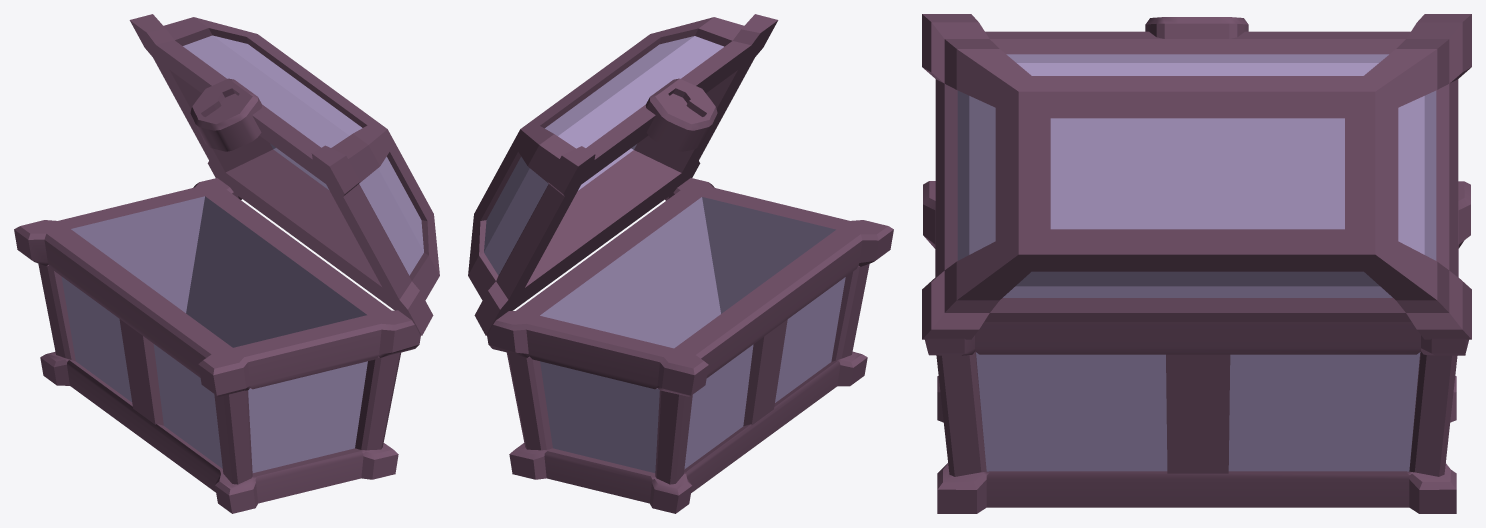
The model's file is openPurpleChest.fbx.
3 views of the same model, side by side, from view 1: azimuth 30°, elevation 25°; view 2: azimuth 150°, elevation 25°; view 3: azimuth 270°, elevation 25° (orthographic). The views are drawn at different scales.
Visible parts, largest first — view 1: Frame, Sides1, LidFrame, LidSides, Lock; view 2: Frame, Sides1, LidFrame, LidSides, Lock; view 3: LidFrame, LidSides, Frame, Sides1, Lock.
Part boxes in pixels (x1,y1,x2,y2): Frame: (14, 178, 420, 513); Sides1: (61, 196, 367, 472); LidFrame: (129, 14, 439, 335); LidSides: (183, 35, 423, 275); Lock: (190, 78, 262, 151); Frame: (487, 178, 893, 513); Sides1: (540, 197, 845, 472); LidFrame: (468, 14, 778, 335); LidSides: (484, 36, 723, 275); Lock: (645, 78, 717, 151); LidFrame: (922, 14, 1471, 339); LidSides: (957, 54, 1436, 297); Frame: (923, 181, 1470, 513); Sides1: (976, 352, 1420, 471); Lock: (1145, 17, 1248, 38).
Size of the model in its own units: 53.14 by 66.2 by 72.14.
